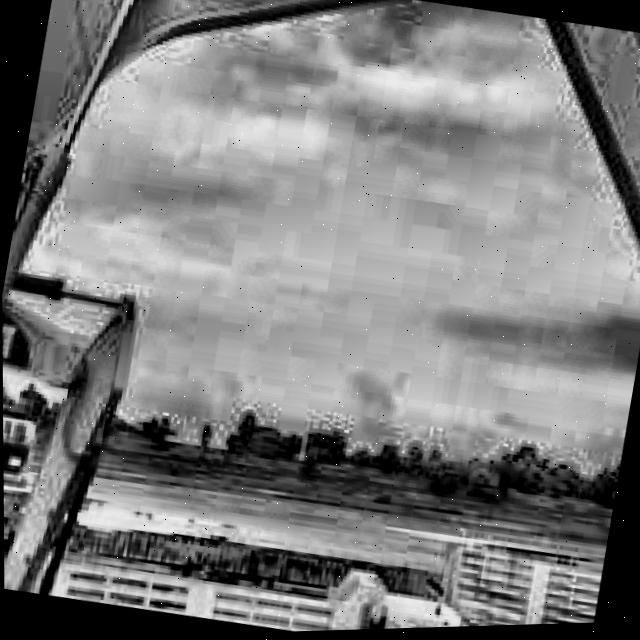dump_truck: (46, 512, 478, 639), (428, 522, 606, 630)
excavator: (0, 0, 640, 640)
